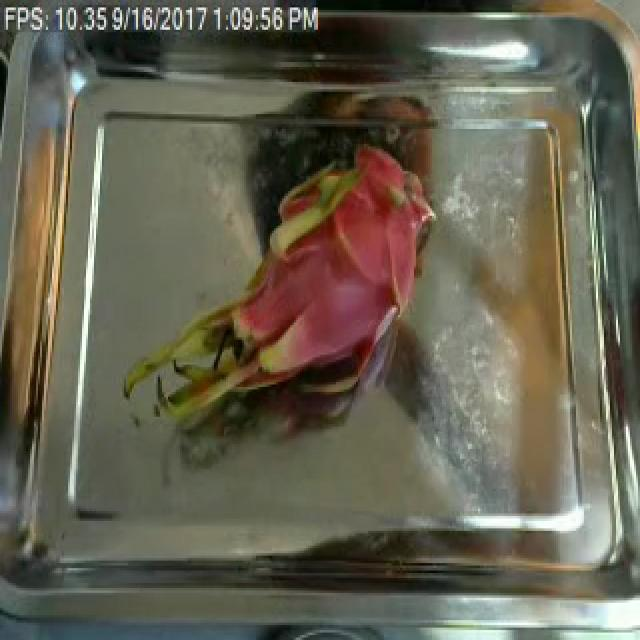fruit: (110, 116, 434, 456)
